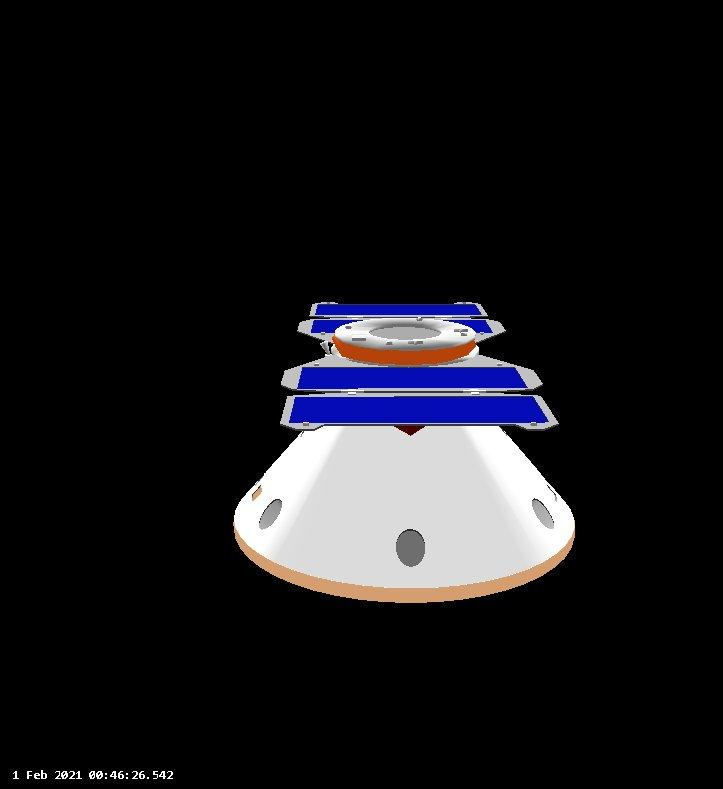body: (233, 320, 580, 607)
solar: (275, 394, 563, 436), (282, 363, 548, 396), (294, 320, 511, 344), (309, 301, 489, 319)
